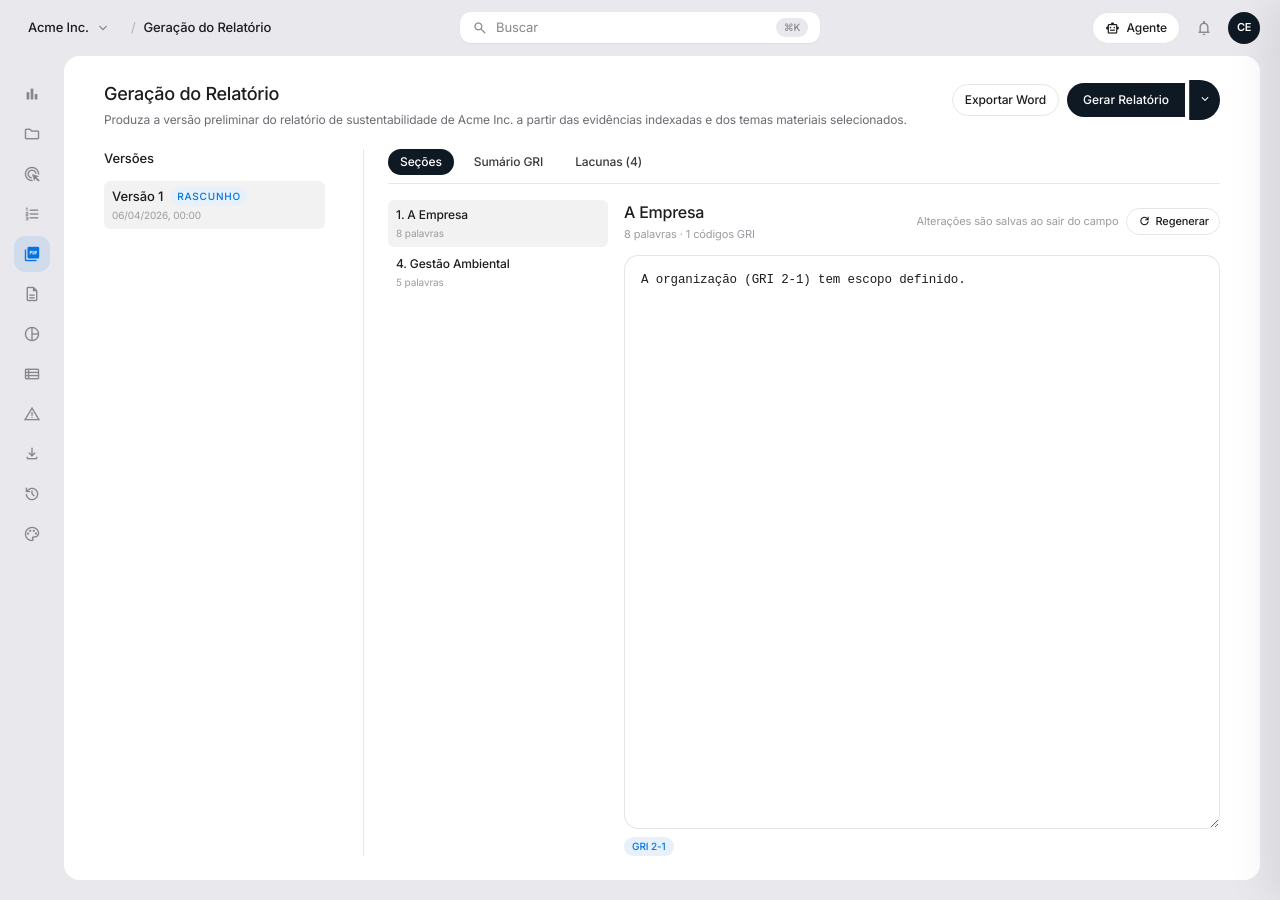
ProjectGenerationPage › groups lacunas by type in the gaps tab
Expected: the text "Versão 1" is shown, [112,186,163,206]
Click the button "Lacunas (4)" at point(608, 162), box [563,149,654,175]
(page scrolled)
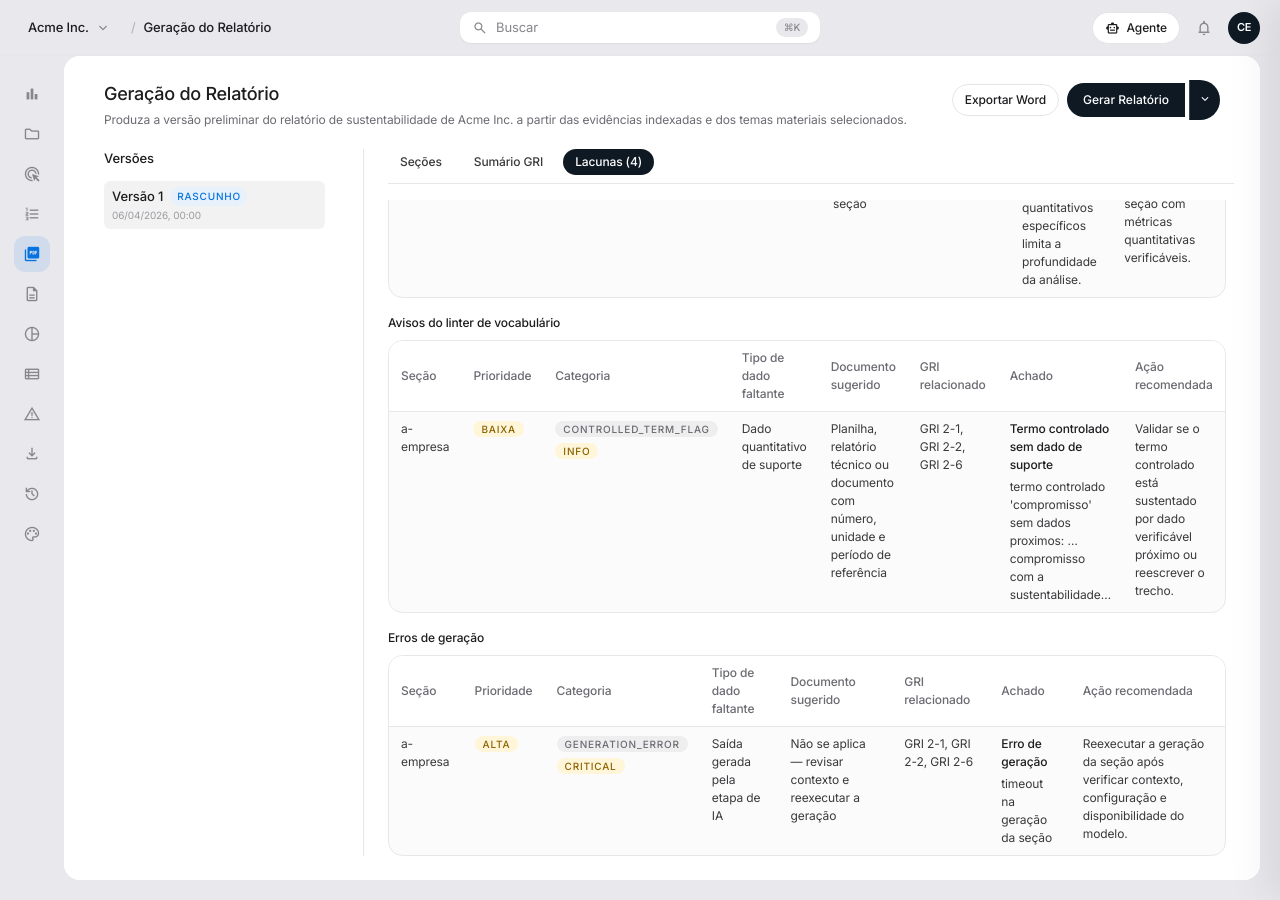
Expected: the heading "Avisos do linter de vocabulário" is shown, [388,315,560,330]
Expected: the heading "Erros de geração" is shown, [388,630,484,645]
Expected: the text "termo controlado 'compromisso'" is shown, [1010,479,1111,602]
